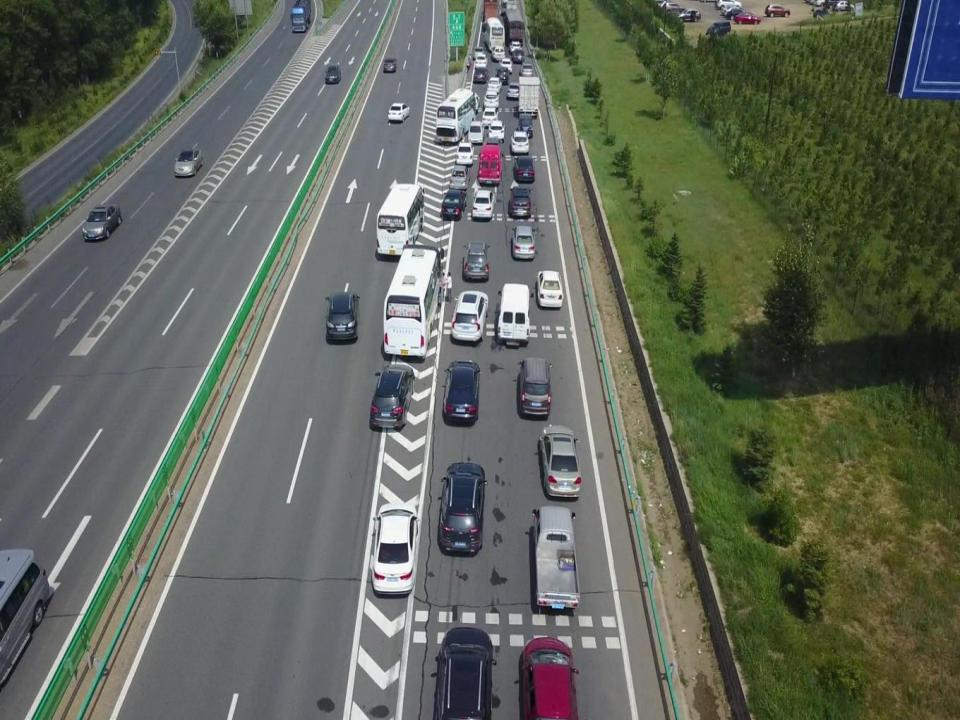bus: (382, 243, 440, 360), (375, 179, 423, 261), (435, 86, 478, 140), (482, 16, 505, 53)
car: (436, 627, 495, 720), (519, 635, 578, 720), (438, 463, 484, 553), (372, 503, 416, 593), (539, 424, 581, 501), (369, 363, 413, 430), (442, 362, 480, 425), (517, 356, 551, 420), (452, 290, 488, 345), (324, 292, 359, 342), (83, 203, 120, 242), (461, 240, 491, 283), (536, 270, 563, 308), (512, 224, 536, 263), (440, 189, 466, 222), (174, 148, 202, 177), (509, 186, 533, 218), (473, 188, 494, 221), (513, 154, 535, 182), (450, 166, 469, 194), (387, 101, 407, 125), (511, 129, 530, 154), (675, 8, 701, 24), (457, 142, 473, 167), (518, 113, 535, 136), (487, 120, 505, 141), (324, 63, 342, 84), (736, 12, 761, 26), (661, 0, 687, 13), (765, 2, 789, 16), (484, 105, 498, 124), (508, 82, 520, 101), (384, 58, 398, 74), (489, 74, 500, 94), (726, 9, 748, 19), (830, 1, 854, 10), (485, 88, 498, 104), (716, 0, 742, 8), (472, 68, 485, 82), (497, 64, 508, 80), (492, 44, 503, 60), (474, 54, 486, 68), (473, 45, 485, 59), (513, 48, 525, 62), (521, 61, 532, 76), (502, 57, 513, 72), (510, 38, 520, 54), (722, 6, 742, 14)
truck: (533, 507, 581, 614), (518, 75, 541, 114), (503, 7, 525, 44), (288, 0, 308, 35)
van: (0, 545, 49, 694), (497, 284, 530, 346), (477, 146, 501, 185), (468, 119, 481, 139)
